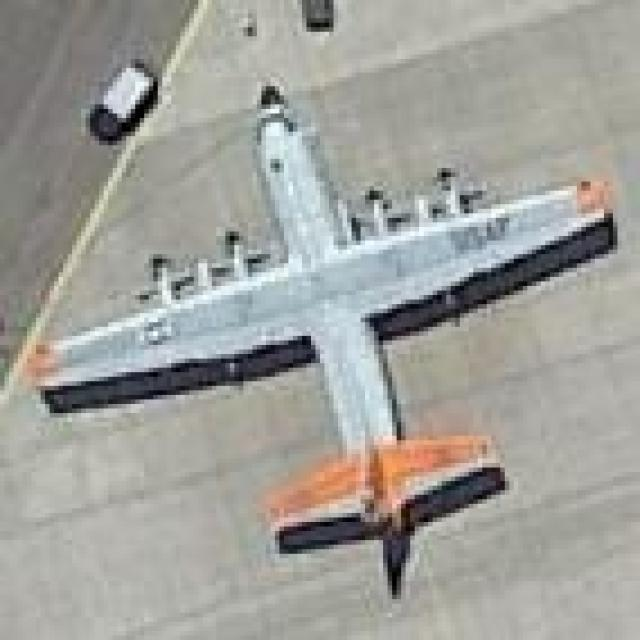C-130_TopDown: (19, 82, 619, 605)
